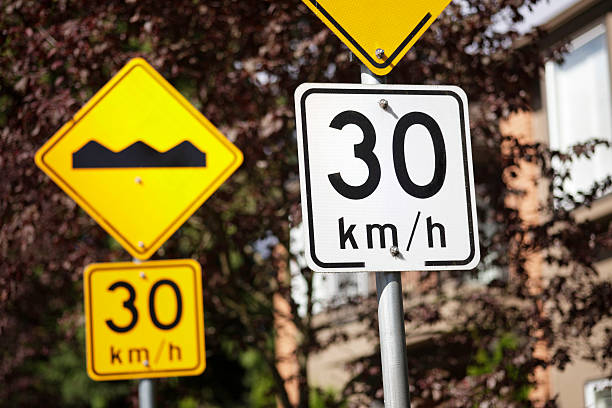speed-breaker: (35, 57, 245, 258)
